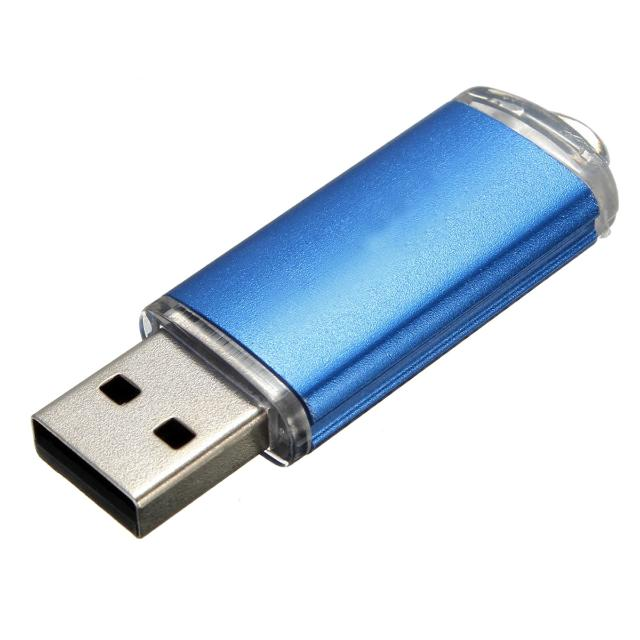USB-Flash-Drive: (12, 81, 620, 549)
